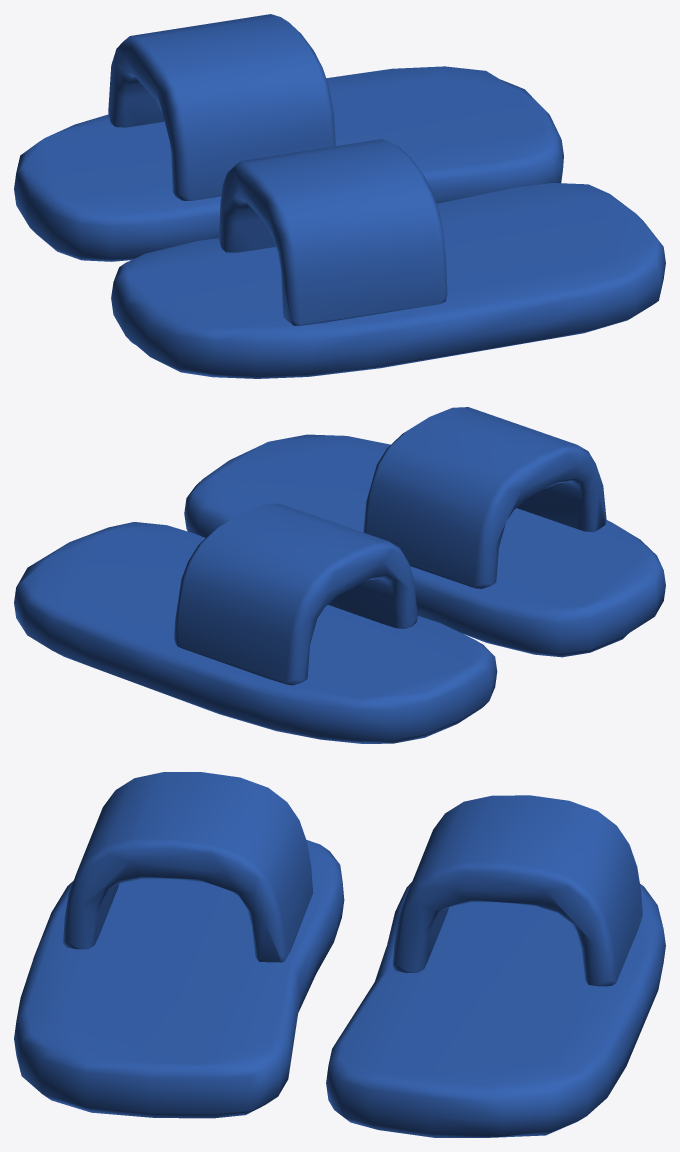
File: slipper_LOD1.fbx
The picture shows the model from 3 angles, top to bottom: view 1: azimuth 30°, elevation 25°; view 2: azimuth 150°, elevation 25°; view 3: azimuth 270°, elevation 25°; orthographic projection. The views are drawn at different scales.
Parts seen in each view (by area): view 1: slipper; view 2: slipper; view 3: slipper.
Boxes of the visible parts, x1=… form: slipper: x1=14, y1=14, x2=665, y2=378; slipper: x1=14, y1=407, x2=665, y2=743; slipper: x1=14, y1=772, x2=665, y2=1137.
Bounding box in the file's own units: 893 × 253 × 907.
